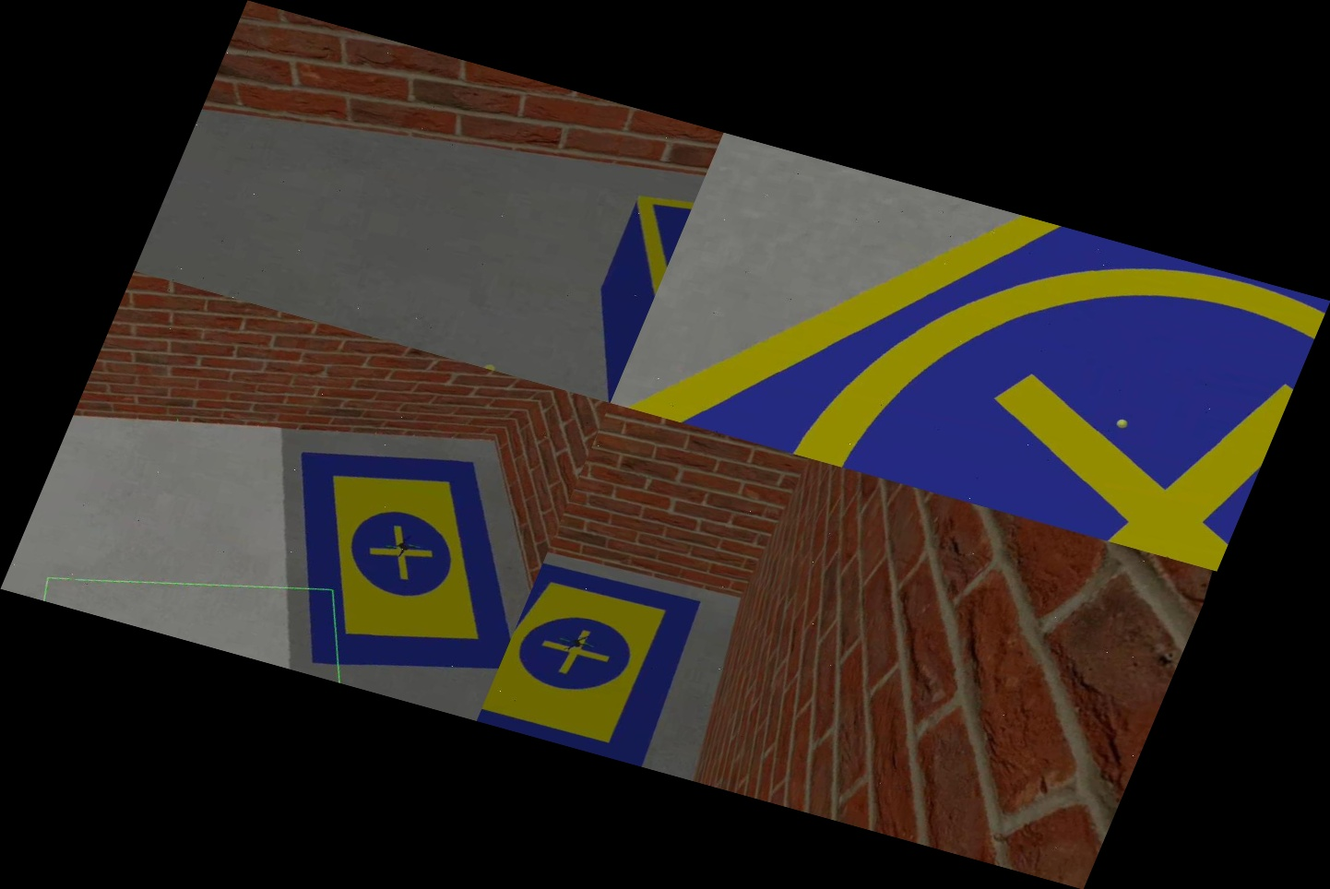large_base: (217, 408, 576, 711), (476, 548, 727, 770)
small_base: (610, 133, 1329, 571)
